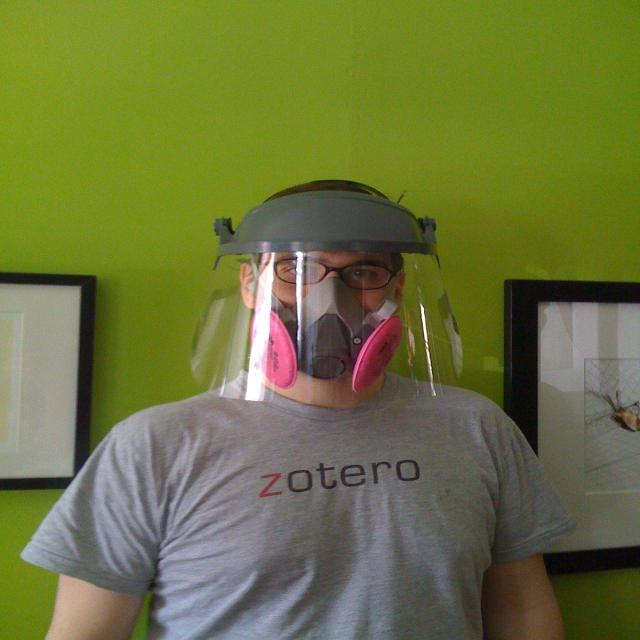Mask: (250, 280, 405, 394)
